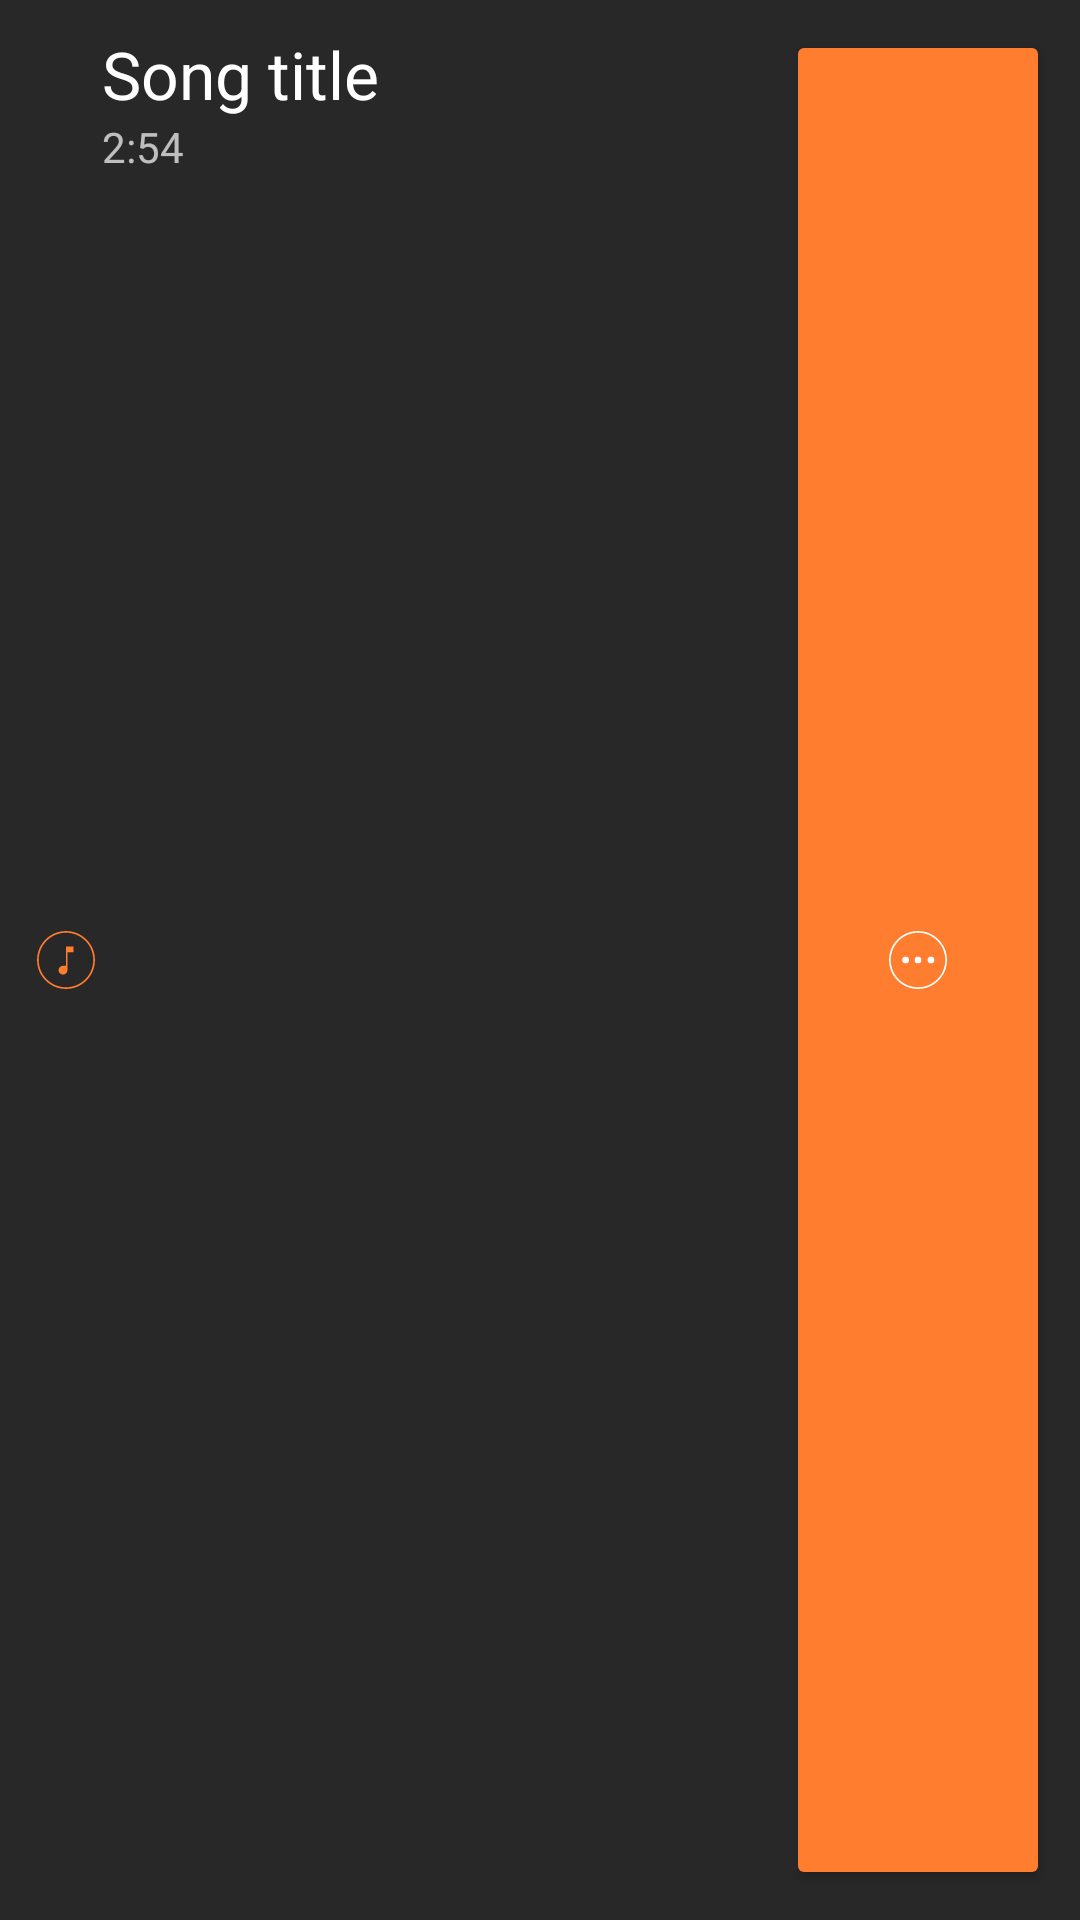

Named icons in this screenshot (1080w x 1920h) and their centers, point (x, y):
song: point (66, 960)
